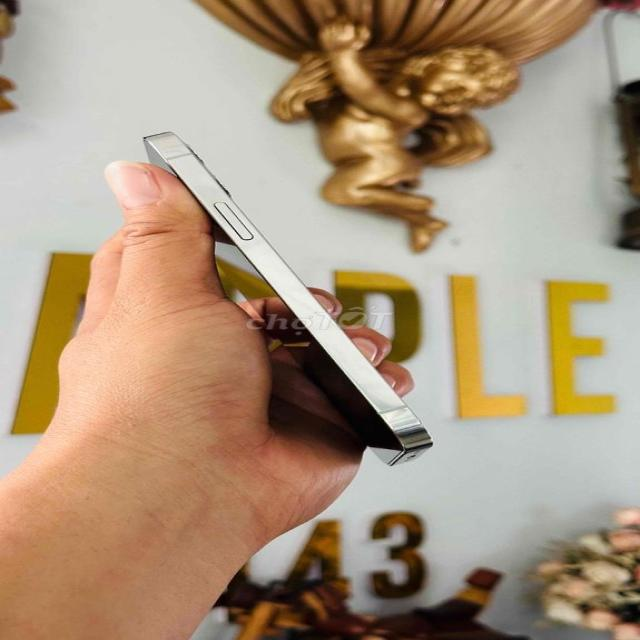gen_12_13: (127, 124, 436, 455)
